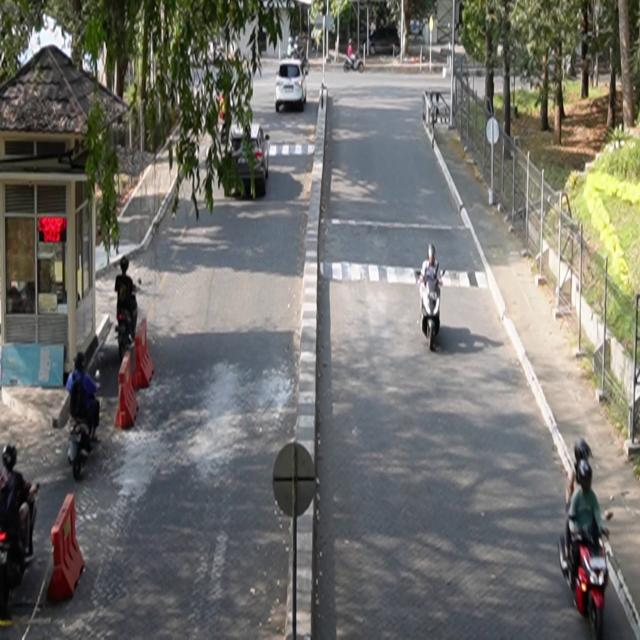car: (276, 59, 308, 113)
